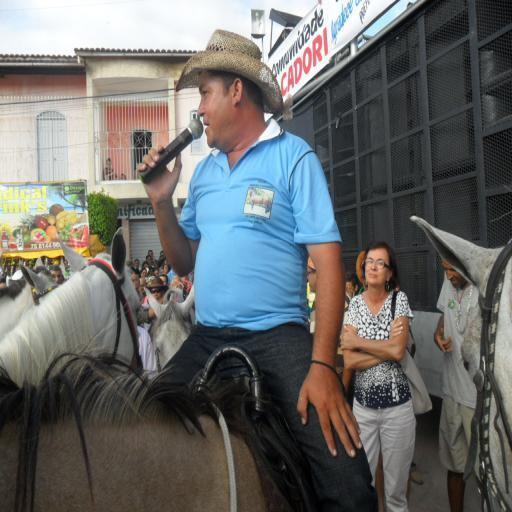horse: (0, 298, 303, 512), (410, 216, 512, 512), (0, 231, 144, 390), (139, 278, 195, 374), (0, 254, 60, 342)
